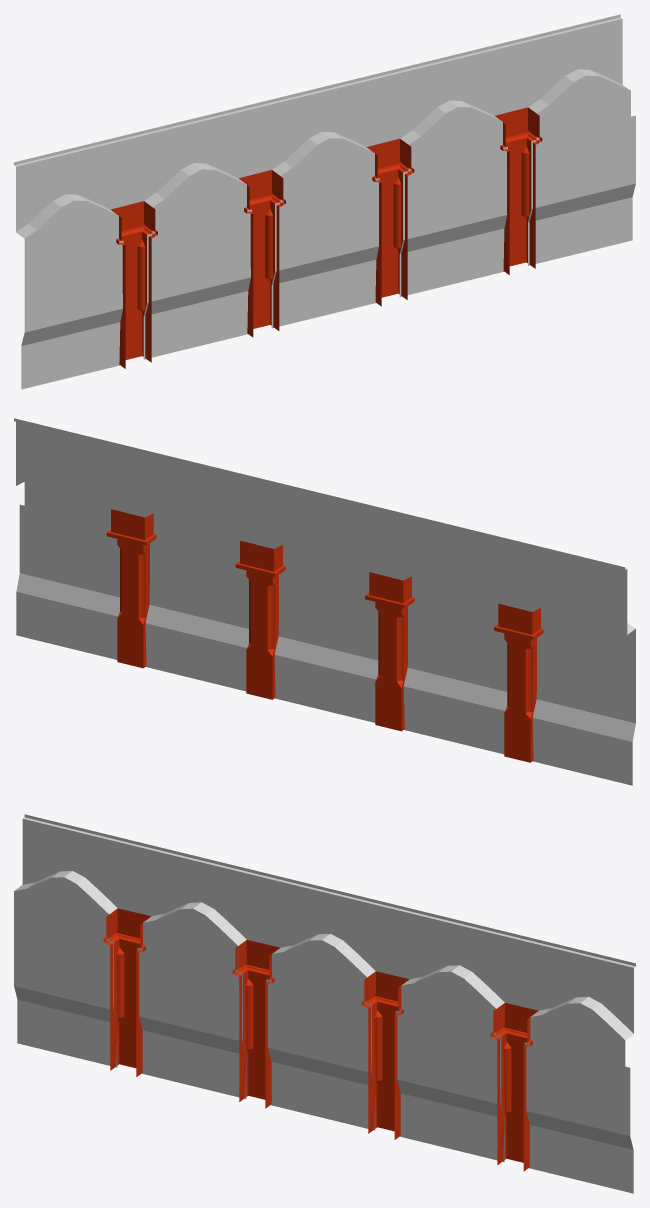
Rendered from Wall5.fbx.
3 views of the same model, one above another, from view 1: azimuth 30°, elevation 25°; view 2: azimuth 150°, elevation 25°; view 3: azimuth 330°, elevation 25° (orthographic).
Parts seen in each view (by area): view 1: Cube.007; view 2: Cube.007; view 3: Cube.007.
Boxes of the visible parts, box(x1,y1,x2,y2) form: Cube.007: box(14, 14, 635, 389); Cube.007: box(14, 418, 635, 785); Cube.007: box(14, 814, 635, 1193).
Size of the model in its own units: 1391 by 483 by 52.47.
